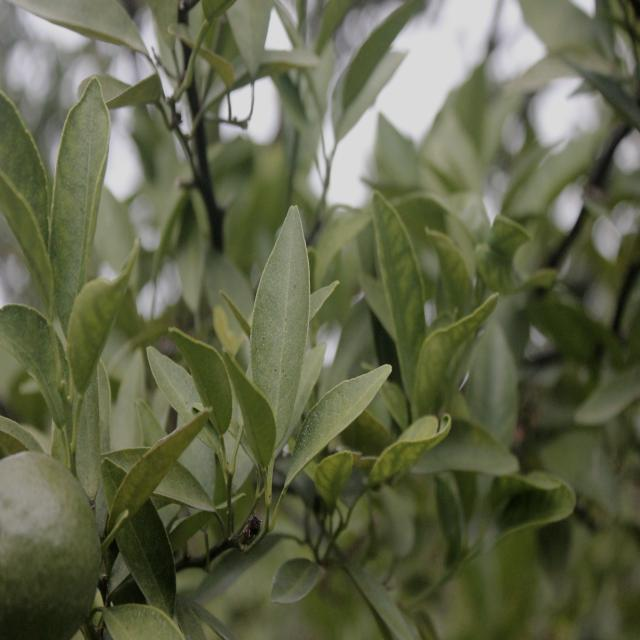blackspot: (258, 273, 305, 389), (58, 190, 88, 241), (172, 383, 192, 415), (83, 469, 96, 492)
